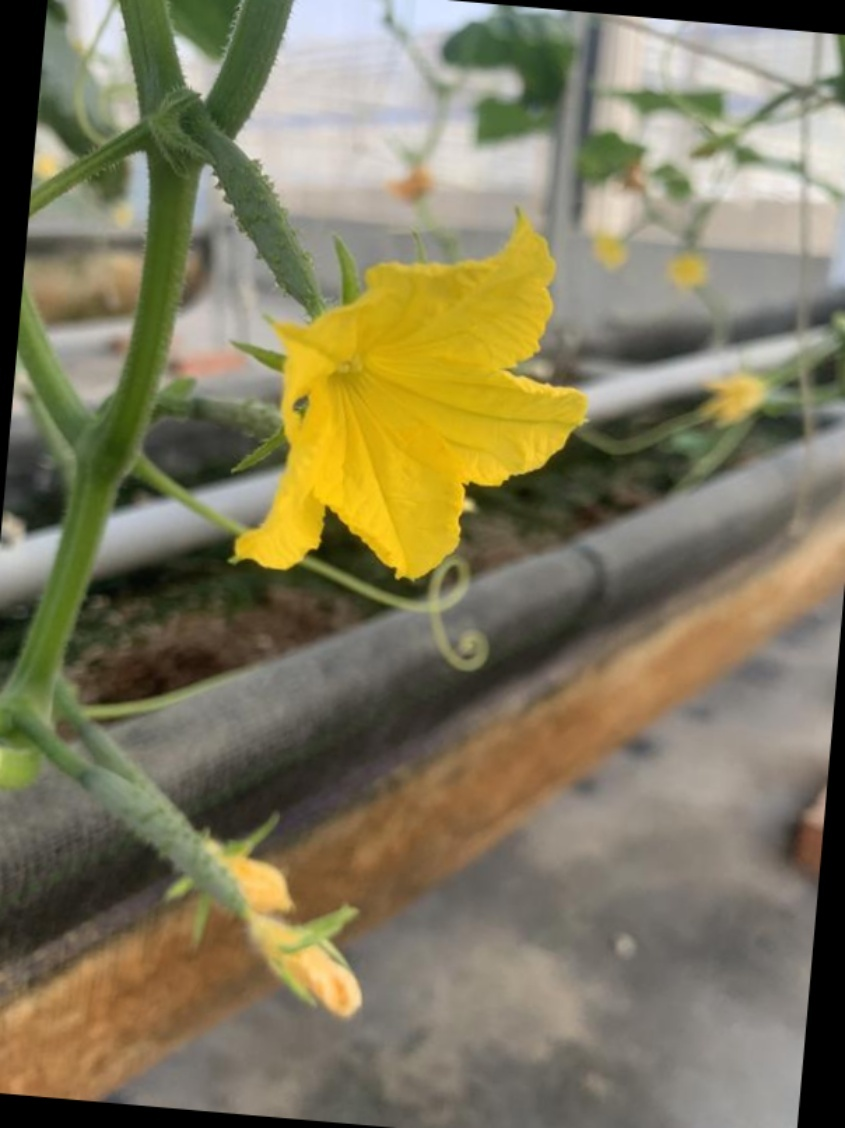flowering: (131, 125, 605, 601)
